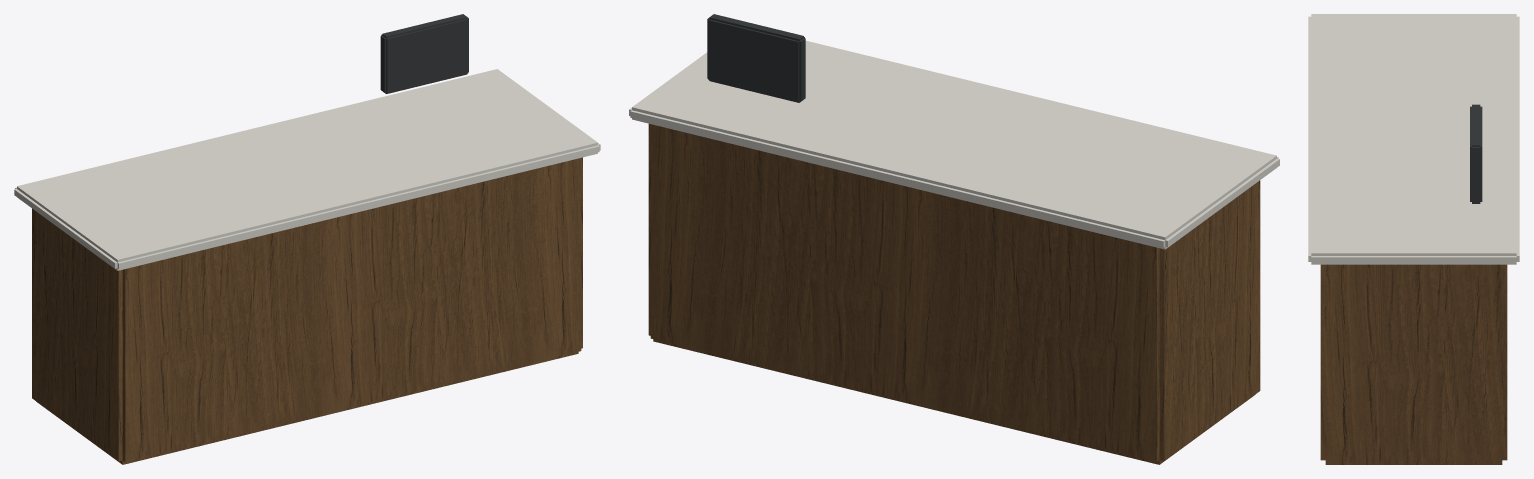
Rendered from fixture_service_desk.glb.
3 renders of one model, left to right at view 1: azimuth 30°, elevation 25°; view 2: azimuth 150°, elevation 25°; view 3: azimuth 270°, elevation 25°, orthographic. The views are drawn at different scales.
Parts seen in each view (by area): view 1: fixture_service_desk_CC0_Oak_veneer, fixture_service_desk_Honed_solid_surface, fixture_service_desk_Anodised_graphite; view 2: fixture_service_desk_CC0_Oak_veneer, fixture_service_desk_Honed_solid_surface, fixture_service_desk_Anodised_graphite; view 3: fixture_service_desk_Honed_solid_surface, fixture_service_desk_CC0_Oak_veneer, fixture_service_desk_Anodised_graphite.
Boxes of the visible parts, <box> form: fixture_service_desk_CC0_Oak_veneer: <box>32,157,582,464</box>; fixture_service_desk_Honed_solid_surface: <box>14,69,600,270</box>; fixture_service_desk_Anodised_graphite: <box>380,14,468,93</box>; fixture_service_desk_CC0_Oak_veneer: <box>648,123,1260,464</box>; fixture_service_desk_Honed_solid_surface: <box>629,40,1279,249</box>; fixture_service_desk_Anodised_graphite: <box>707,14,805,102</box>; fixture_service_desk_Honed_solid_surface: <box>1308,14,1519,264</box>; fixture_service_desk_CC0_Oak_veneer: <box>1320,264,1507,464</box>; fixture_service_desk_Anodised_graphite: <box>1470,104,1482,203</box>.
Size of the model in its own units: 2.3 by 1.33 by 0.85.
Materials: 3 (1 with a texture image).
